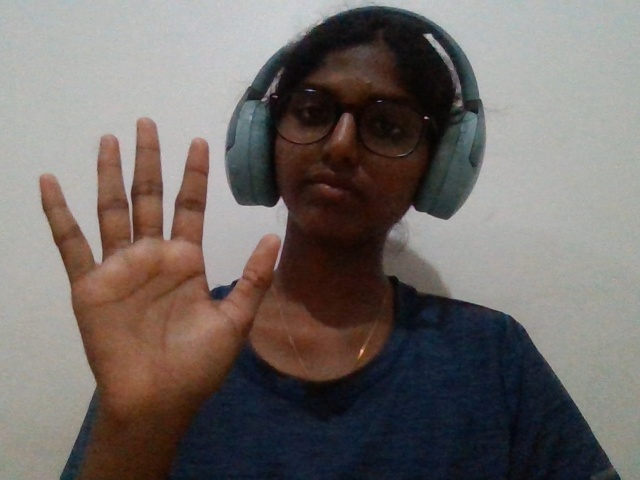Bye: (5, 52, 303, 480)
